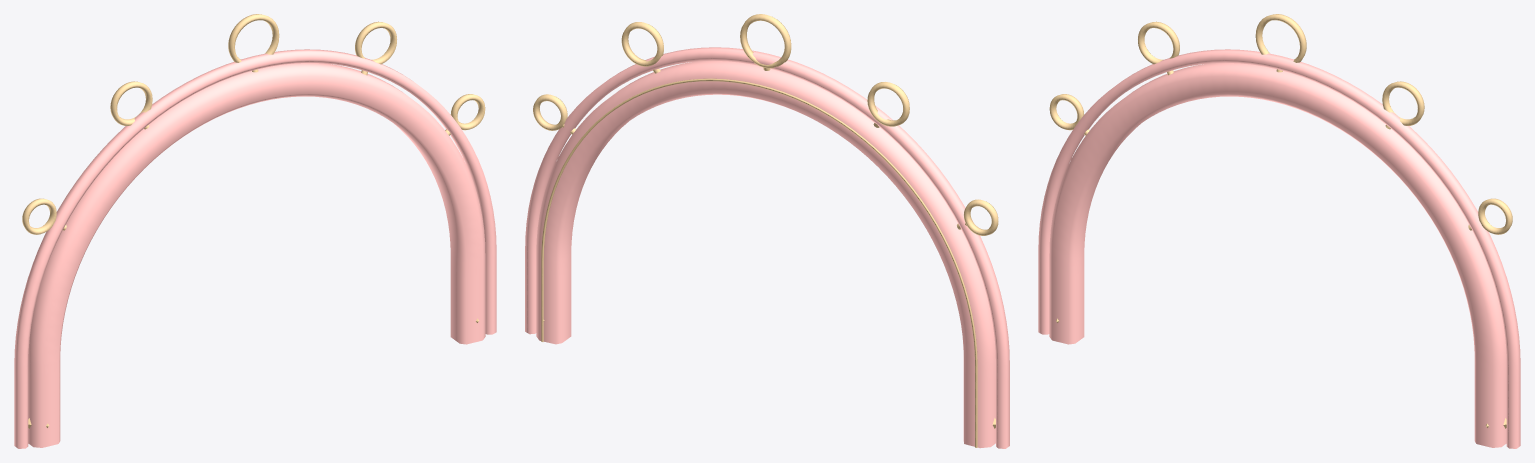
File: finish-portal-lod0.glb
The picture shows the model from 3 angles, left to right: view 1: azimuth 30°, elevation 25°; view 2: azimuth 150°, elevation 25°; view 3: azimuth 330°, elevation 25°; orthographic projection.
Visible parts, largest first — view 1: finish_frame; view 2: finish_frame; view 3: finish_frame.
Part boxes in pixels (x1=…): finish_frame: x1=14, y1=14, x2=496, y2=448; finish_frame: x1=525, y1=14, x2=1009, y2=448; finish_frame: x1=1038, y1=14, x2=1520, y2=448.
Size of the model in its own units: 17.24 by 12.85 by 1.02.
